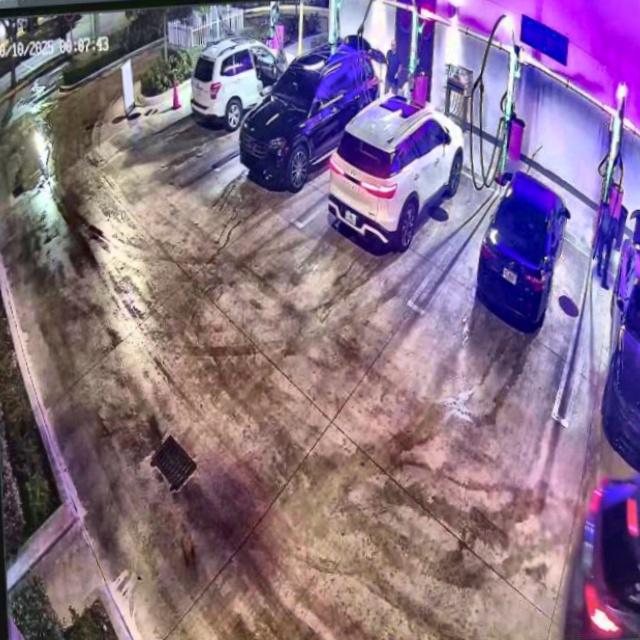Car: (323, 88, 474, 248), (233, 42, 387, 184), (470, 171, 577, 328)
